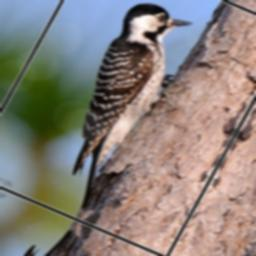Woodpecker: (21, 0, 211, 225)
